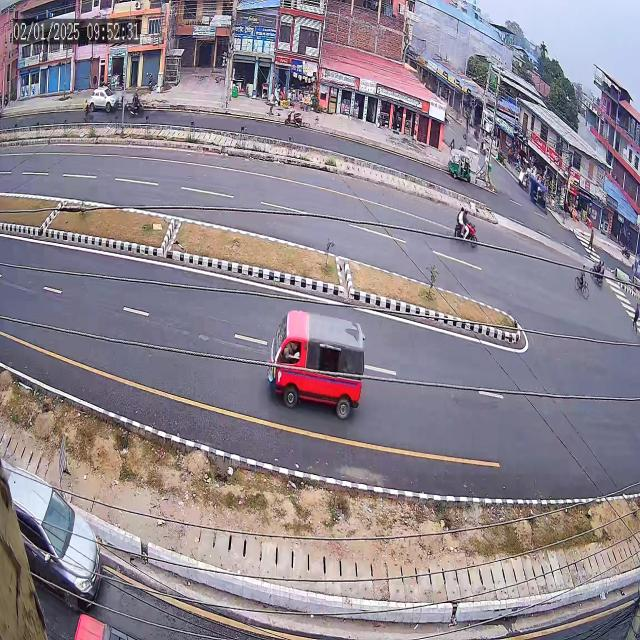car: (87, 83, 122, 114)
cycle: (566, 256, 593, 307)
motorcycle: (441, 193, 487, 260)
van: (250, 296, 373, 430)
